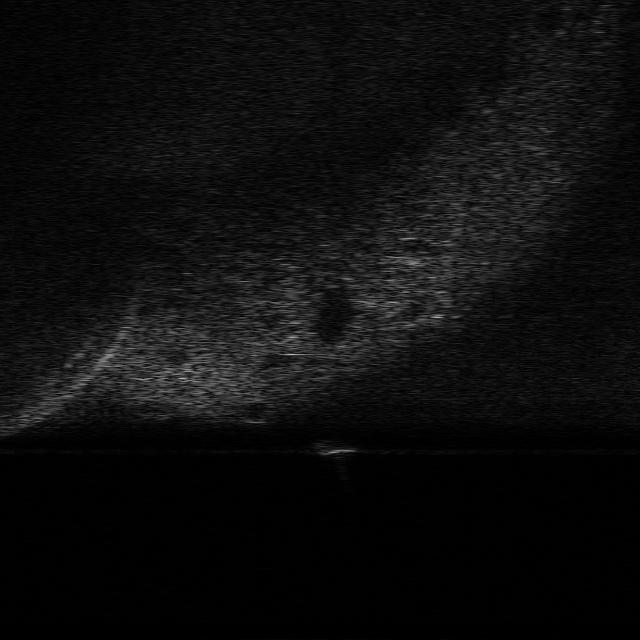cube: (305, 437, 360, 459)
